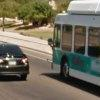Bus: (43, 5, 100, 87)
